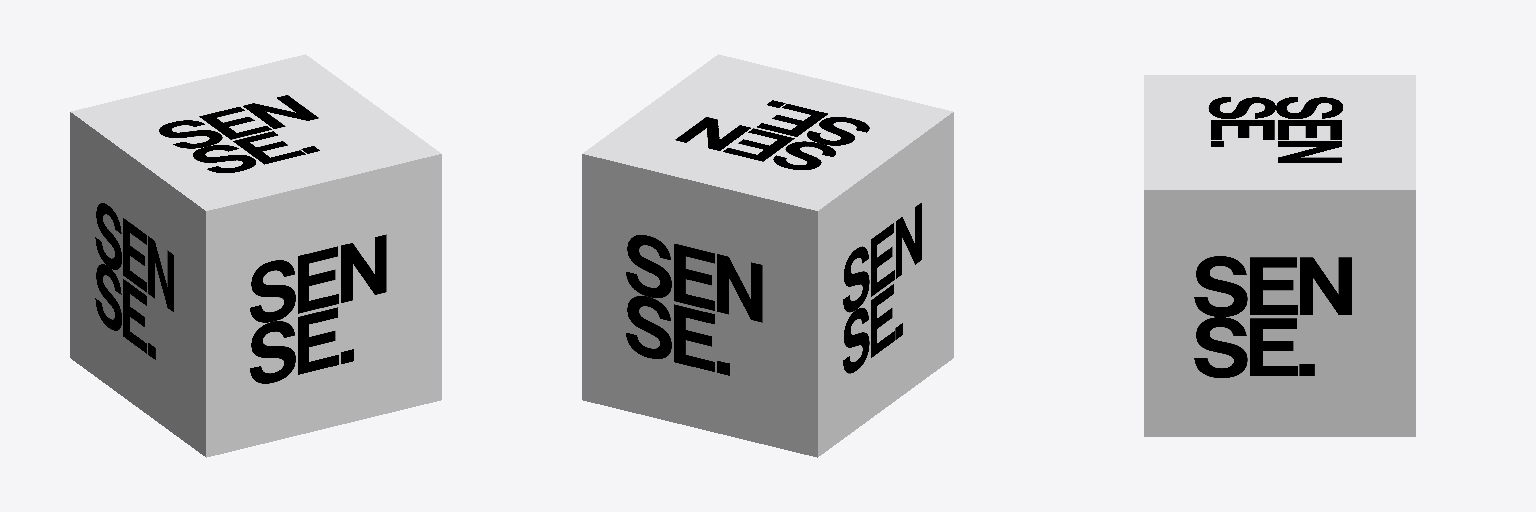
3 renders of one model, left to right at view 1: azimuth 30°, elevation 25°; view 2: azimuth 150°, elevation 25°; view 3: azimuth 270°, elevation 25°, orthographic.
Visible parts, largest first — view 1: Würfel; view 2: Würfel; view 3: Würfel.
Part boxes in pixels (x1,y1,x2,y2): Würfel: (70, 54, 441, 457); Würfel: (582, 54, 953, 457); Würfel: (1144, 75, 1415, 436).
Size of the model in its own units: 200 by 200 by 200.
Materials: 1 (1 with a texture image).